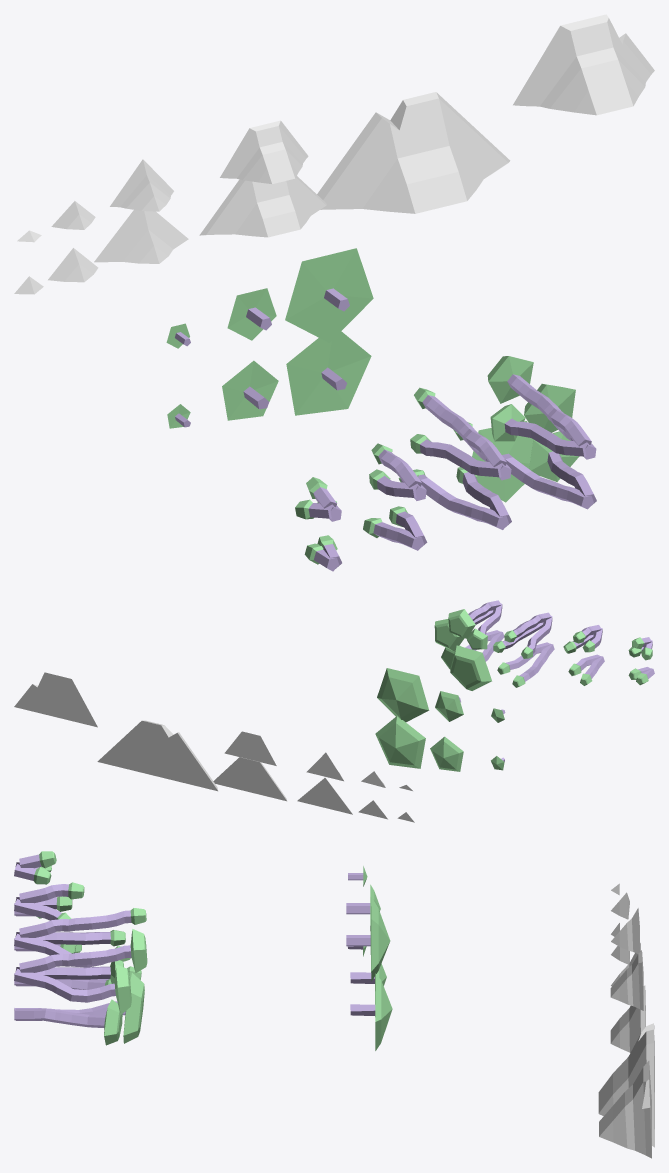
The model's file is Mushrooms.fbx.
The picture shows the model from 3 angles, top to bottom: view 1: azimuth 30°, elevation 25°; view 2: azimuth 150°, elevation 25°; view 3: azimuth 270°, elevation 25°; orthographic projection. The views are drawn at different scales.
Parts seen in each view (by area): view 1: Oyster 2 Stage 4, Oyster 1 Stage 4, Bright Shroom 2 Stage 3, Pearl Cap 1 Stage 2, Oyster 2 Stage 3, Pearl Cap 2 Stage 2, Bright Shroom 1 Stage 3, Oyster 1 Stage 3, Bright Shroom 2 Stage 2, Oyster 2 Stage 2, Bright Shroom 1 Stage 2, Pearl Cap 2 Stage 1 (+7 smaller); view 2: Oyster 2 Stage 4, Oyster 1 Stage 4, Bright Shroom 2 Stage 3, Pearl Cap 1 Stage 2, Bright Shroom 1 Stage 3, Pearl Cap 2 Stage 2, Oyster 2 Stage 3, Bright Shroom 2 Stage 2, Oyster 1 Stage 3, Bright Shroom 1 Stage 2, Oyster 2 Stage 2, Pearl Cap 2 Stage 1 (+5 smaller); view 3: Bright Shroom 2 Stage 3, Bright Shroom 2 Stage 2, Bright Shroom 1 Stage 3, Oyster 1 Stage 4, Oyster 2 Stage 4, Bright Shroom 2 Stage 1, Pearl Cap 1 Stage 2, Oyster 1 Stage 3, Oyster 2 Stage 3, Pearl Cap 2 Stage 2, Bright Shroom 2 Stage 0, Oyster 1 Stage 2 (+1 smaller).
Part boxes in pixels (x1,y1,x2,y2): Oyster 2 Stage 4: [317, 92, 510, 213]; Oyster 1 Stage 4: [513, 14, 654, 115]; Bright Shroom 2 Stage 3: [487, 356, 596, 459]; Pearl Cap 1 Stage 2: [285, 248, 373, 342]; Oyster 2 Stage 3: [199, 176, 326, 237]; Pearl Cap 2 Stage 2: [286, 331, 371, 415]; Bright Shroom 1 Stage 3: [472, 421, 596, 509]; Oyster 1 Stage 3: [220, 120, 308, 184]; Bright Shroom 2 Stage 2: [410, 387, 511, 480]; Oyster 2 Stage 2: [94, 210, 188, 263]; Bright Shroom 1 Stage 2: [413, 467, 511, 529]; Pearl Cap 2 Stage 1: [222, 360, 278, 420]; Oyster 2 Stage 4: [97, 720, 218, 791]; Oyster 1 Stage 4: [14, 672, 97, 727]; Bright Shroom 2 Stage 3: [434, 600, 502, 651]; Pearl Cap 1 Stage 2: [377, 668, 429, 722]; Bright Shroom 1 Stage 3: [441, 630, 504, 690]; Pearl Cap 2 Stage 2: [375, 716, 425, 768]; Oyster 2 Stage 3: [213, 757, 286, 801]; Bright Shroom 2 Stage 2: [493, 612, 552, 658]; Oyster 1 Stage 3: [224, 731, 276, 765]; Bright Shroom 1 Stage 2: [497, 642, 554, 687]; Oyster 2 Stage 2: [297, 778, 352, 814]; Pearl Cap 2 Stage 1: [430, 736, 463, 771]; Bright Shroom 2 Stage 3: [14, 929, 147, 1014]; Bright Shroom 2 Stage 2: [14, 908, 146, 967]; Bright Shroom 1 Stage 3: [14, 973, 144, 1045]; Oyster 1 Stage 4: [599, 1061, 651, 1158]; Oyster 2 Stage 4: [598, 1023, 654, 1147]; Bright Shroom 2 Stage 1: [14, 882, 84, 920]; Pearl Cap 1 Stage 2: [346, 897, 390, 981]; Oyster 1 Stage 3: [610, 950, 643, 1010]; Oyster 2 Stage 3: [610, 985, 645, 1052]; Pearl Cap 2 Stage 2: [350, 973, 392, 1050]; Bright Shroom 2 Stage 0: [14, 851, 56, 884]; Oyster 1 Stage 2: [611, 908, 639, 953].
Size of the model in its own units: 2879 by 662 by 2639.
